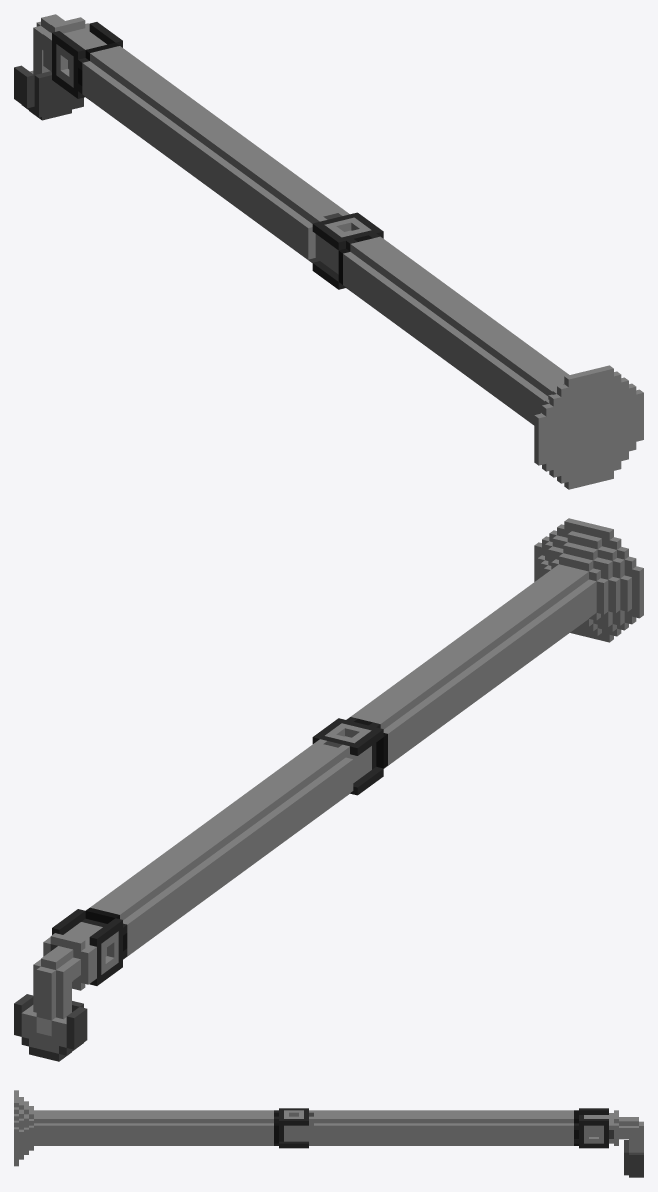
File: Bot1-5.obj
The picture shows the model from 3 angles, top to bottom: view 1: azimuth 30°, elevation 25°; view 2: azimuth 150°, elevation 25°; view 3: azimuth 270°, elevation 25°; orthographic projection. The views are drawn at different scales.
Visible parts, largest first — view 1: Bot1-5; view 2: Bot1-5; view 3: Bot1-5.
Boxes of the visible parts, x1,y1,x2,y2 form: Bot1-5: (14,14,643,489); Bot1-5: (14,518,643,1061); Bot1-5: (14,1090,643,1177).
Size of the model in its own units: 14 by 17 by 126.
Materials: 1 (1 with a texture image).
